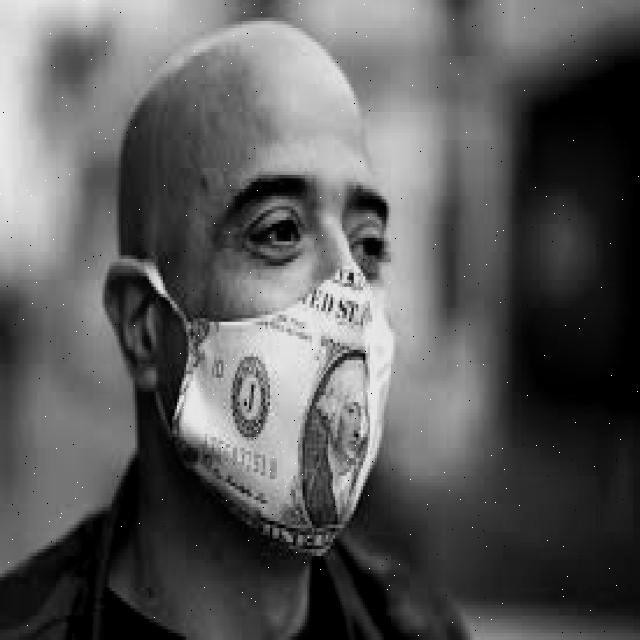fake: (171, 263, 406, 558)
real: (166, 43, 388, 559)
